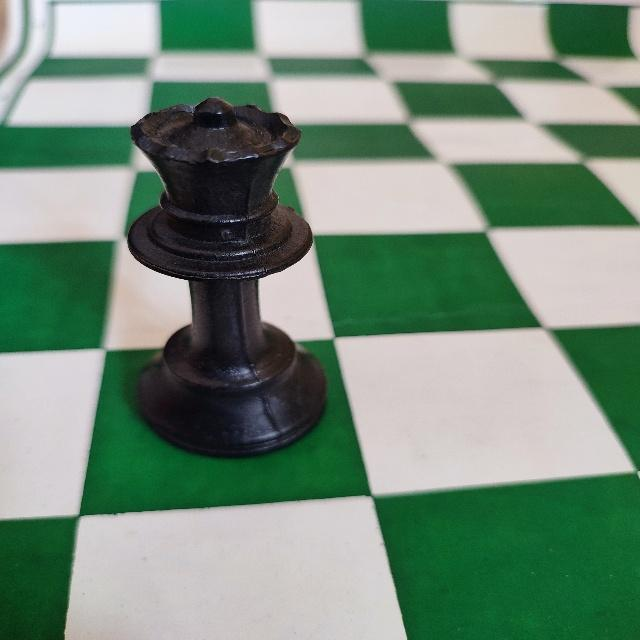Queen: (122, 94, 334, 467)
